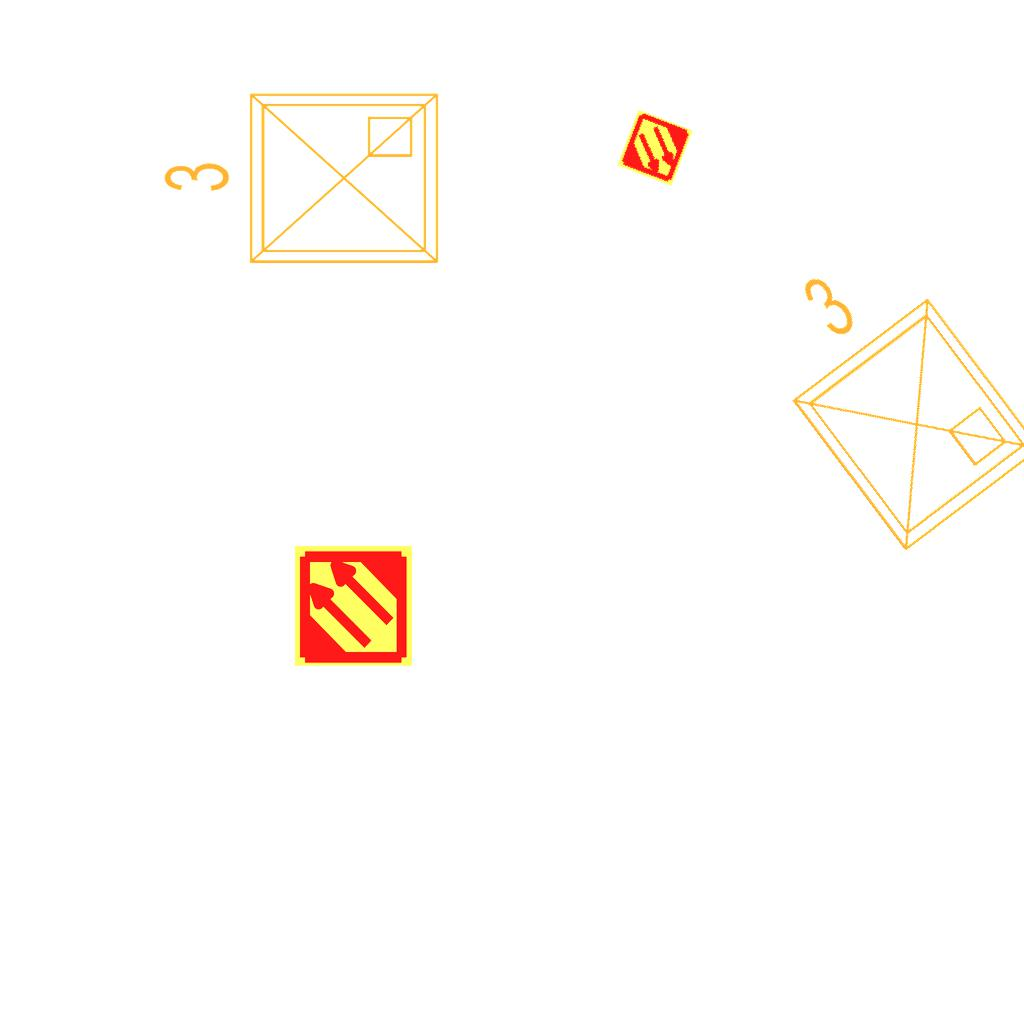ASR_Ansaugrauchmelder: (291, 543, 416, 668), (614, 107, 696, 189)
Einbaudownlights_LED_Konferenzraeume: (715, 211, 1024, 577), (153, 78, 453, 286)
